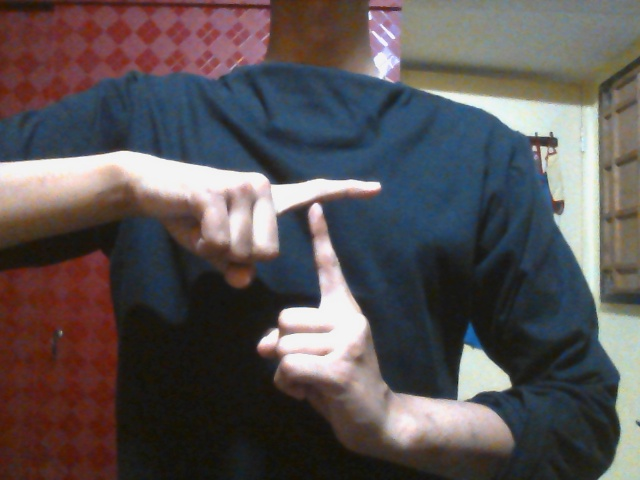T: (153, 160, 390, 414)
